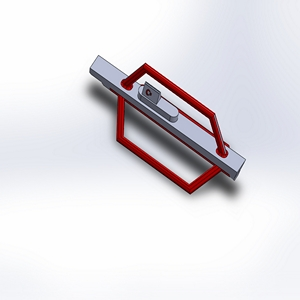submarine: (69, 49, 258, 201)
